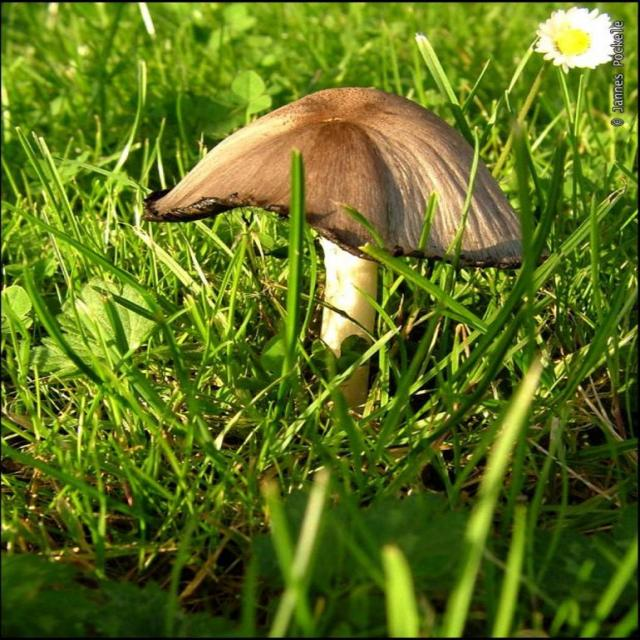Mushroom: (116, 90, 536, 356)
